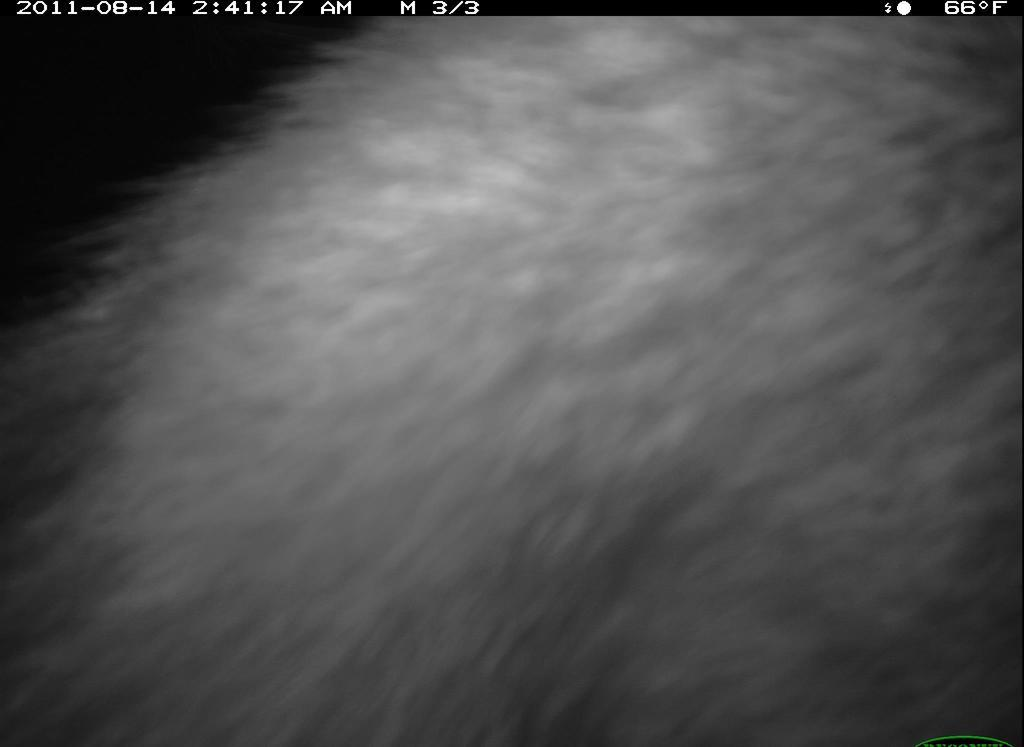raccoon: (71, 33, 1022, 745)
